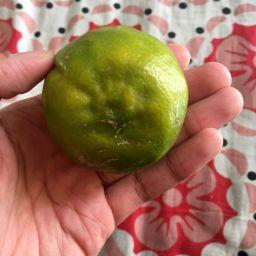Unripe: (43, 29, 187, 175)
